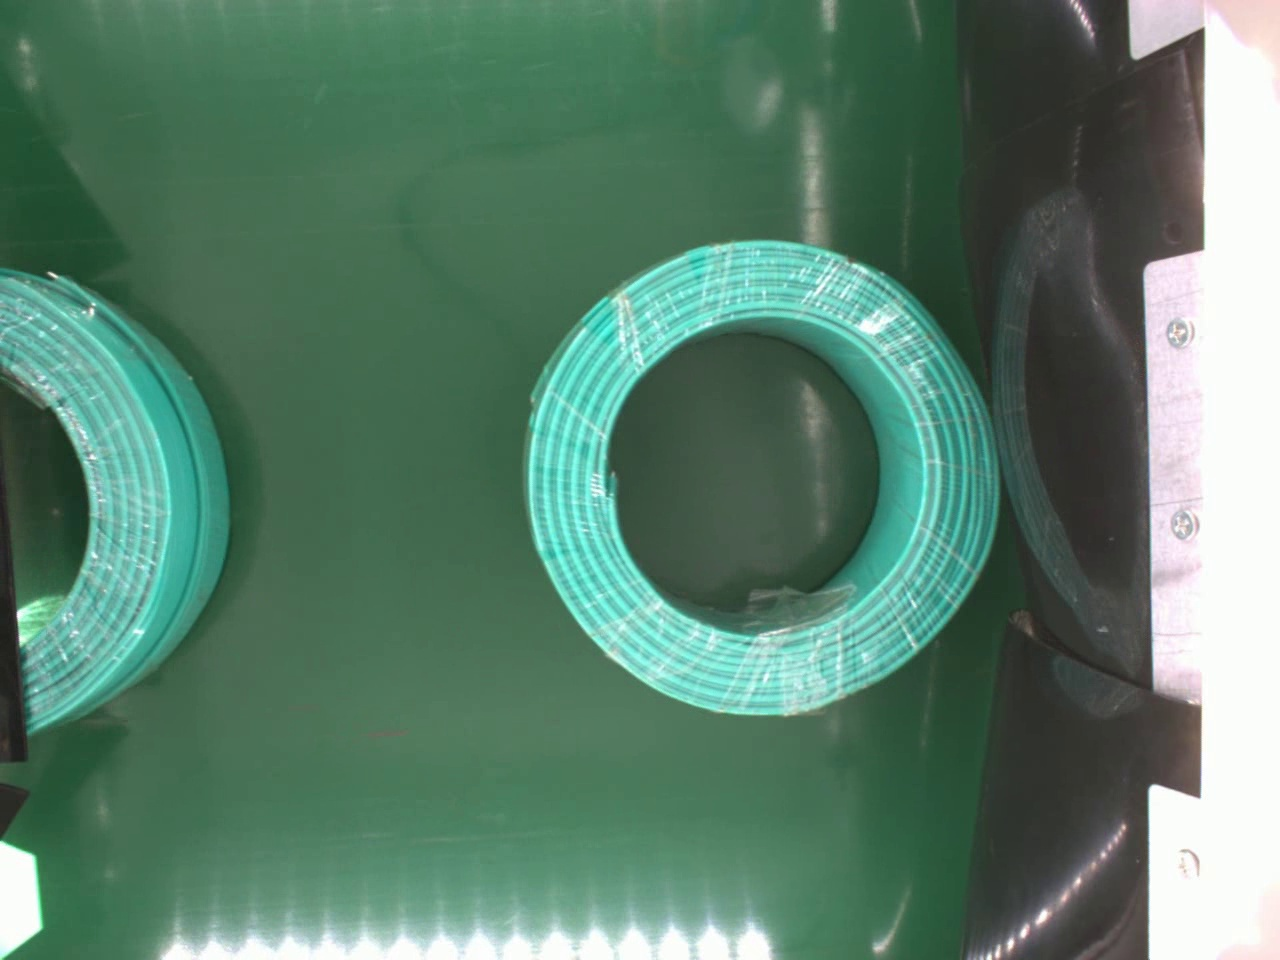green: (522, 235, 1001, 716), (0, 263, 235, 746)
